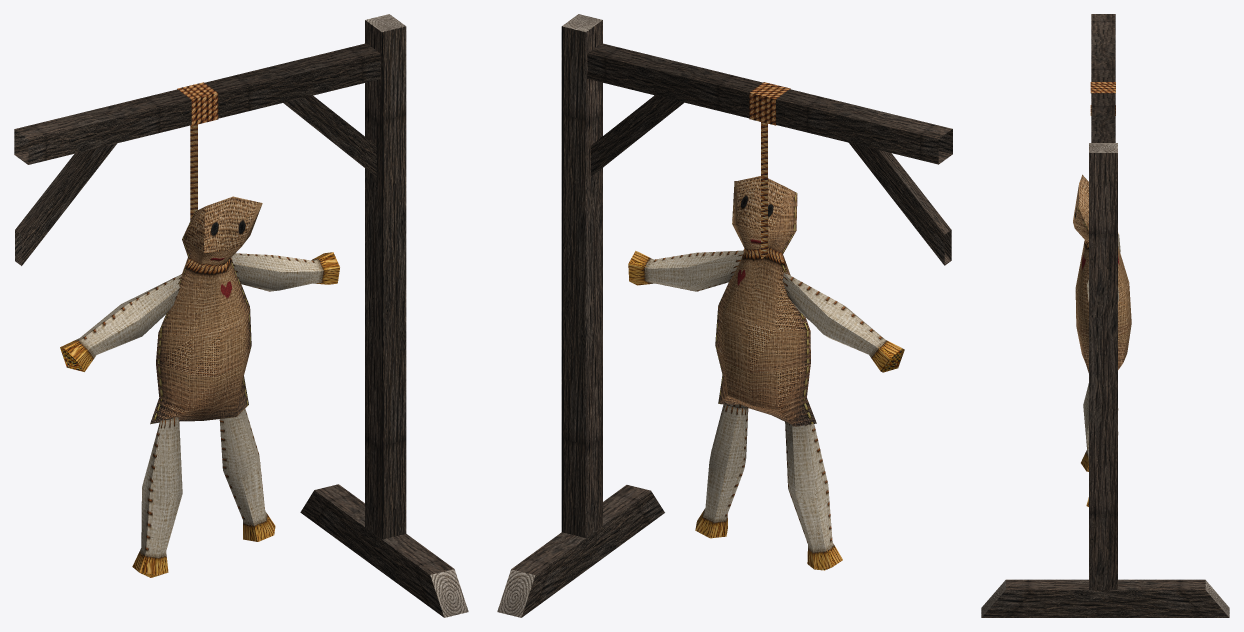
The model's file is mm9_deco_strawdummy2l.glb.
3 renders of one model, left to right at view 1: azimuth 30°, elevation 25°; view 2: azimuth 150°, elevation 25°; view 3: azimuth 270°, elevation 25°, orthographic. The views are drawn at different scales.
Visible parts, largest first — view 1: Strawdummy2l; view 2: Strawdummy2l; view 3: Strawdummy2l.
Boxes of the visible parts, bbox=[...] form: Strawdummy2l: bbox=[14, 14, 468, 617]; Strawdummy2l: bbox=[497, 14, 952, 617]; Strawdummy2l: bbox=[981, 14, 1229, 617].
Size of the model in its own units: 2.39 by 3.25 by 1.57.
Materials: 2 (2 with a texture image).
